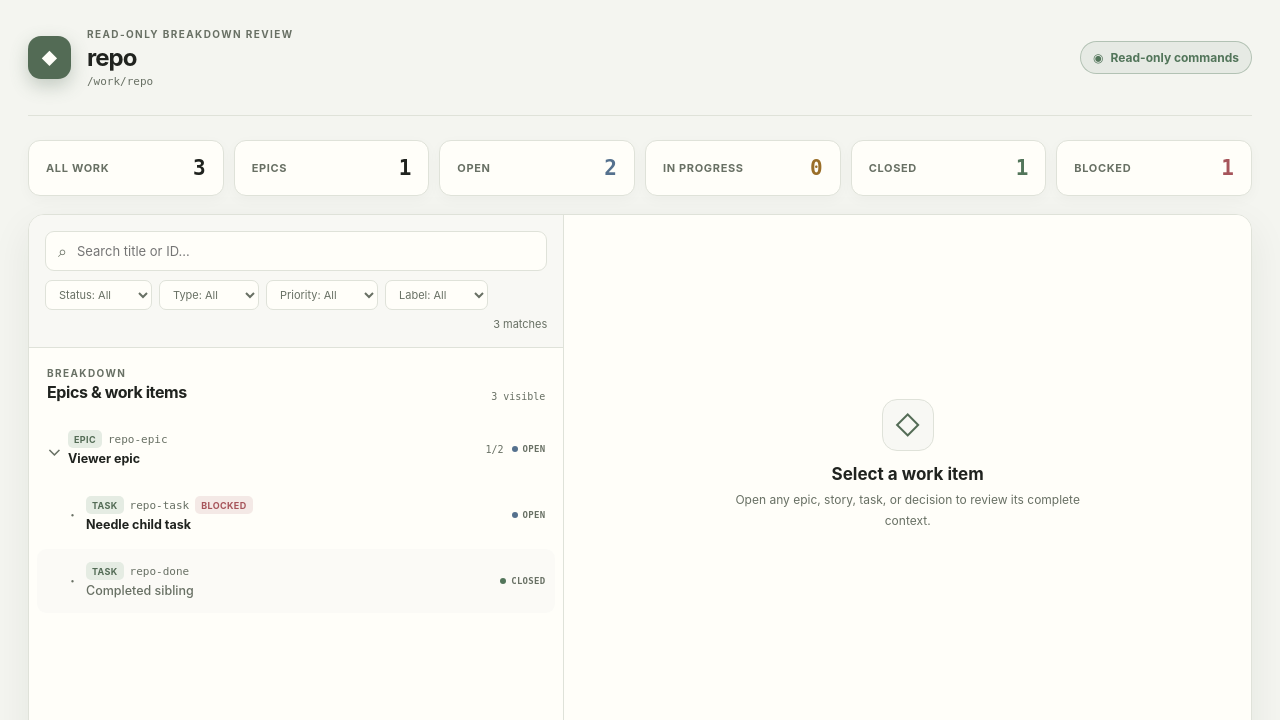
App › filters by title while retaining ancestors, truthful progress, and match count
Expected: the text "Viewer epic" is shown, left=68, top=451, right=140, bottom=468
Step 1. Type "Needle" into the field with placeholder "Search title or ID…" → point(305, 251), box left=75, top=242, right=534, bottom=260
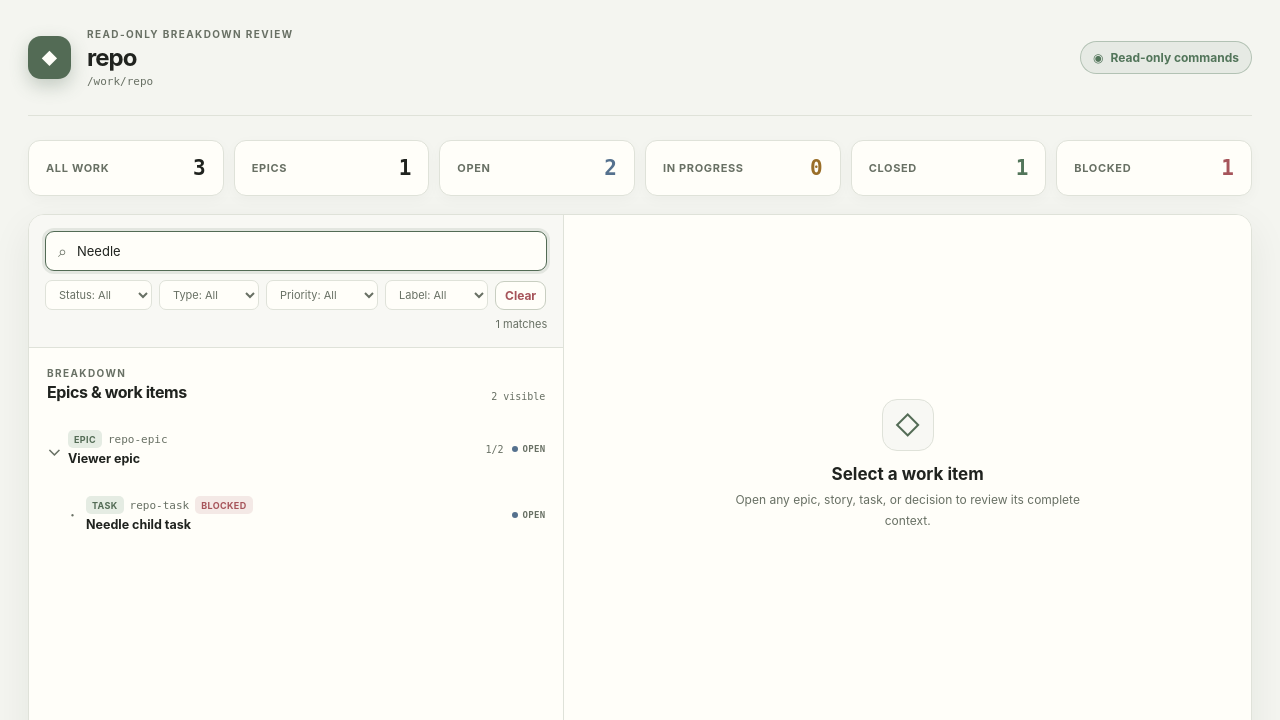
Expected: the text "Viewer epic" is shown, left=68, top=451, right=140, bottom=468
Now the text "1 matches" is shown, box left=496, top=317, right=547, bottom=331
Step 2. Click the text "Needle child task" → point(138, 526), box left=86, top=517, right=191, bottom=534
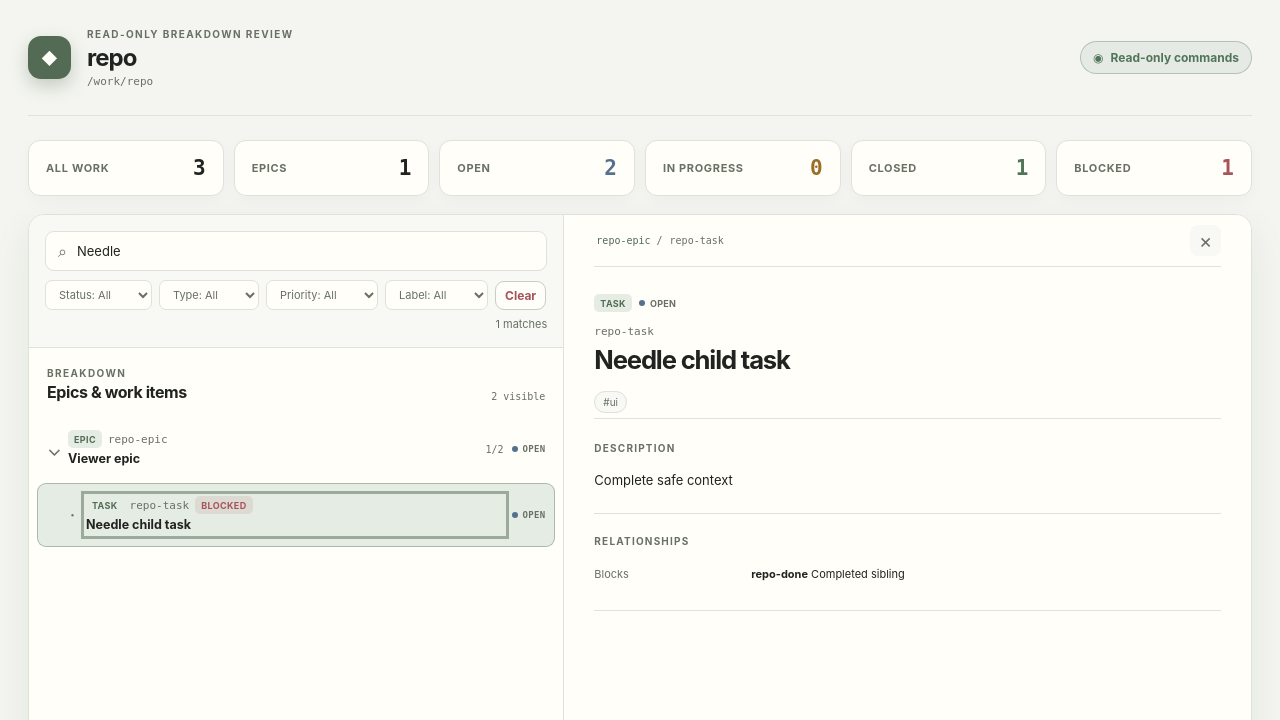
Now the text "Complete safe context" is shown, box left=594, top=472, right=733, bottom=488
